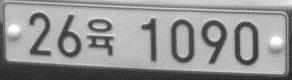0: (169, 17, 197, 63), (232, 20, 260, 66)
1: (137, 16, 165, 63)
2: (28, 11, 52, 57)
6: (57, 12, 82, 58)
9: (200, 18, 228, 65)
육: (86, 17, 115, 58)
